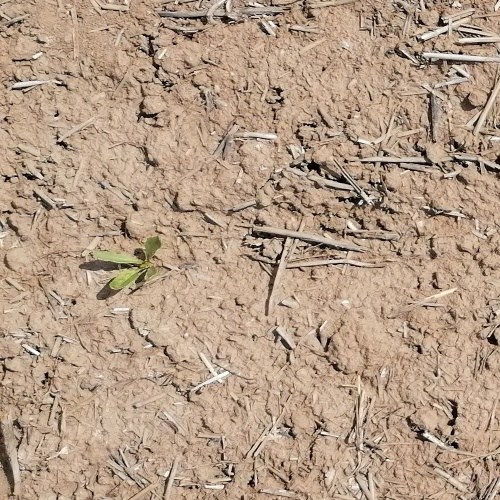beet: (89, 235, 162, 293)
